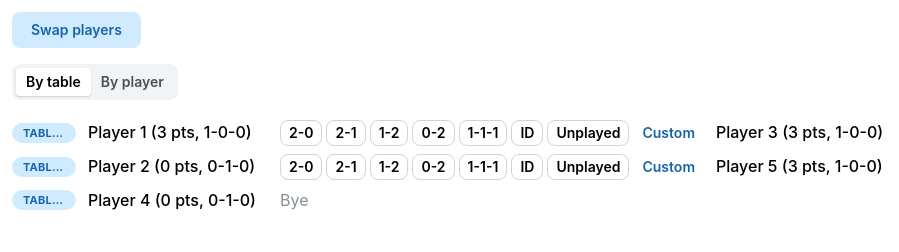
SwapPlayers › swaps two players, updates both rows, and closes
The width and height of the screenshot is (899, 252).
Click the button "Swap players" at (76, 30), box [12,12,141,48]
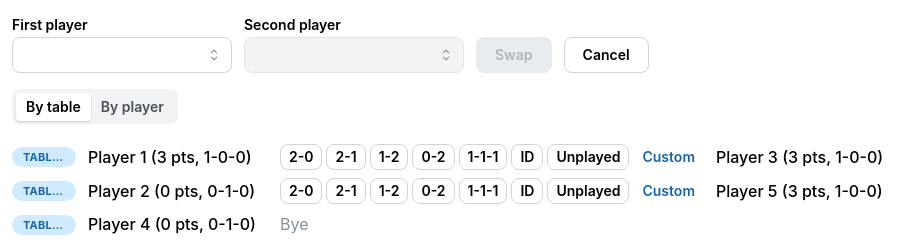
Click the dropdown labelled "First player" at (122, 55), box [12,37,232,73]
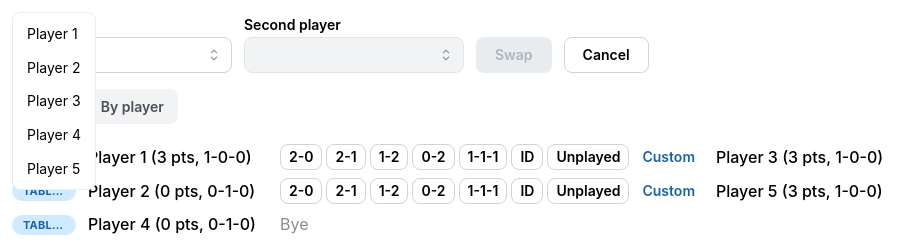
Click the option "Player 3" at (54, 101), box [27,92,81,109]
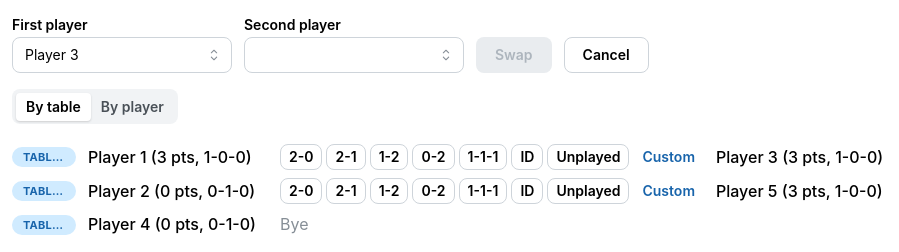
Click the dropdown labelled "Second player" at (354, 55), box [244,37,464,73]
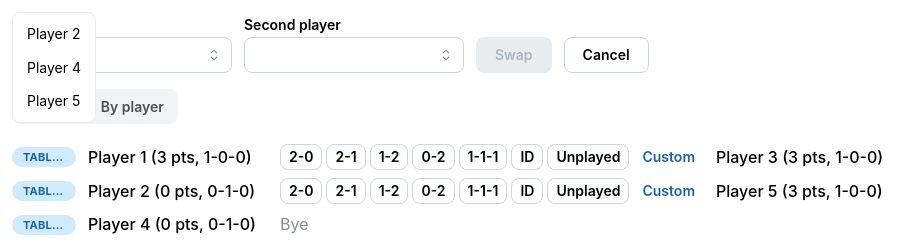
Click the option "Player 5" at (54, 101), box [27,92,80,109]
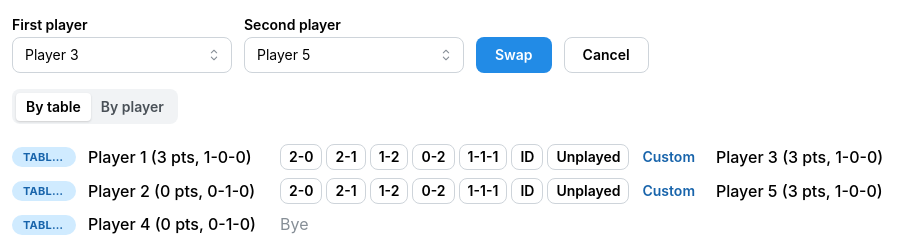
Click the button "Swap" at (514, 55), box [476,37,552,73]
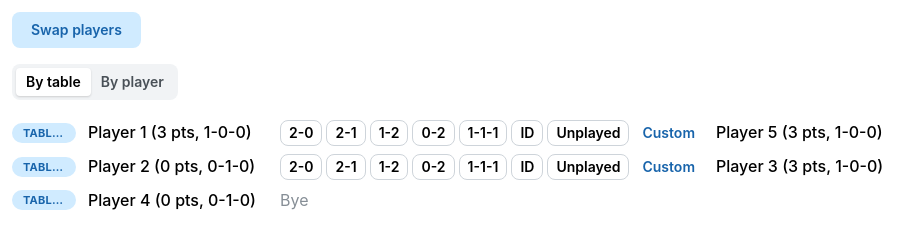
Check: the label "First player" is gone
